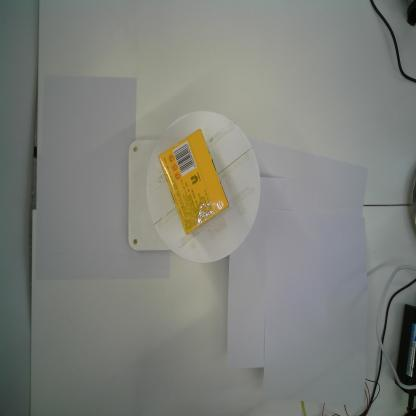Instant Drink: (157, 128, 230, 236)
